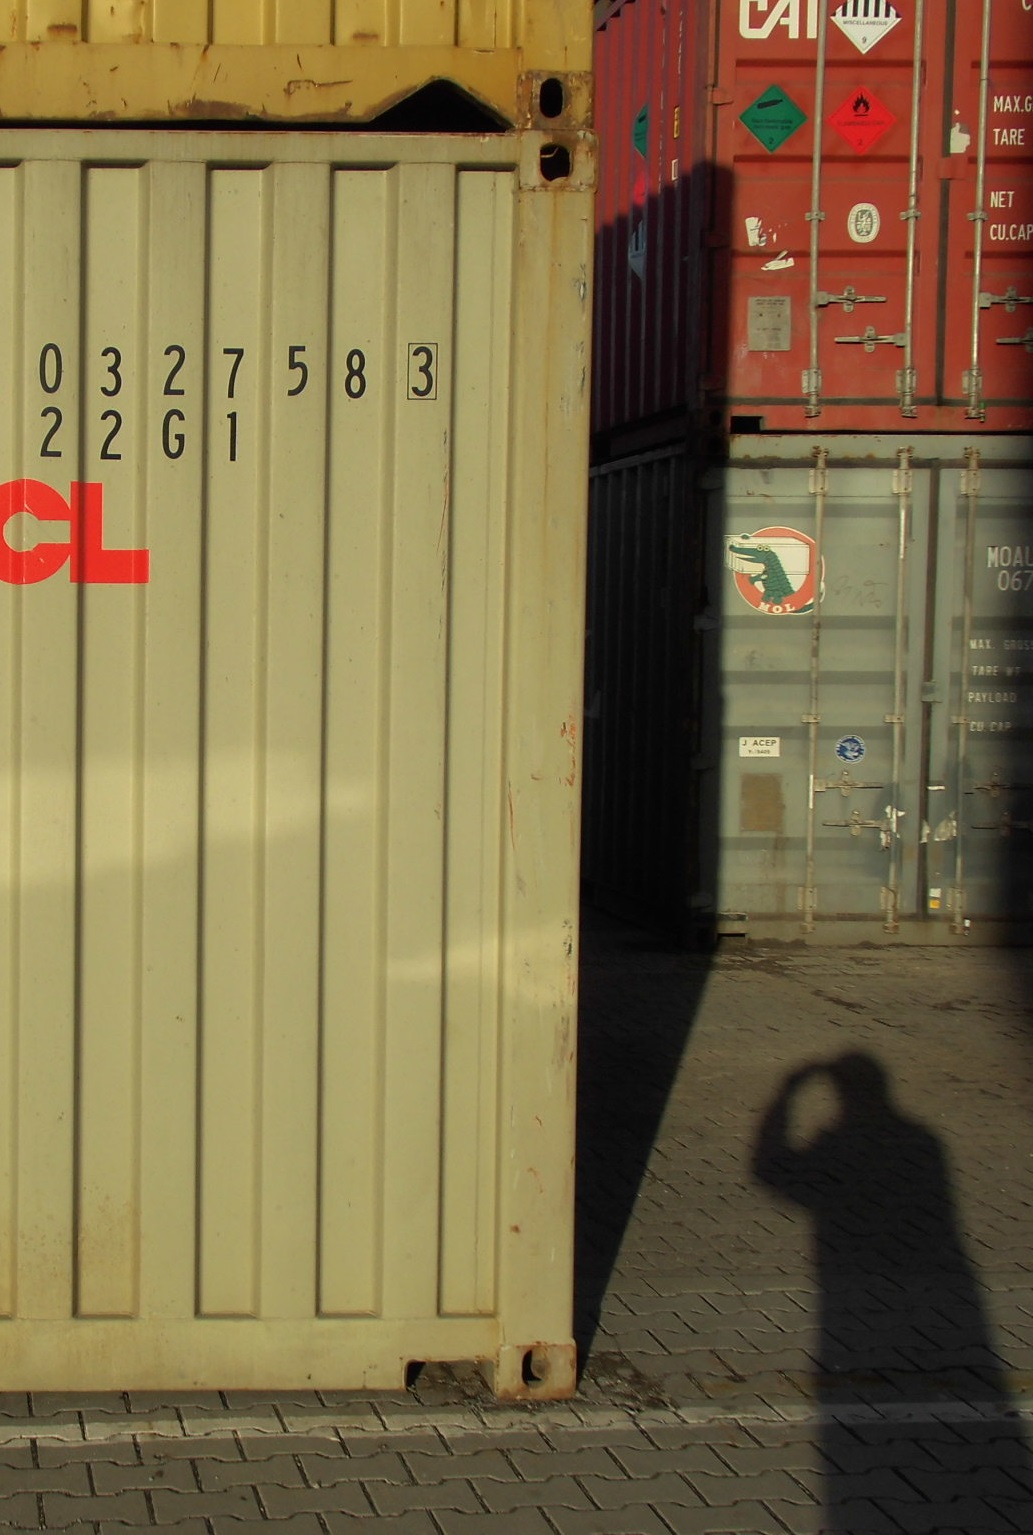container_door: (685, 433, 1033, 944), (708, 1, 1033, 431)
container_no_door: (2, 129, 596, 1402)
